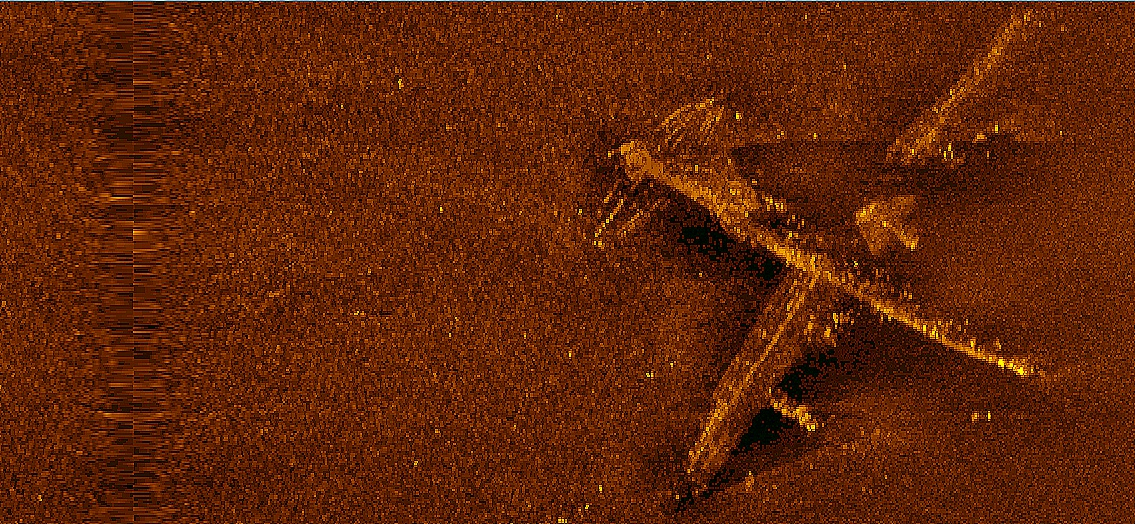aircraft: (586, 8, 1055, 494)
